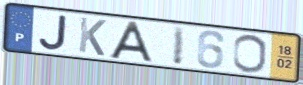6: (195, 29, 226, 70)
A: (107, 20, 156, 65)
I: (171, 24, 188, 67)
J: (38, 14, 69, 52)
K: (77, 15, 108, 58)
O: (231, 33, 268, 75)
